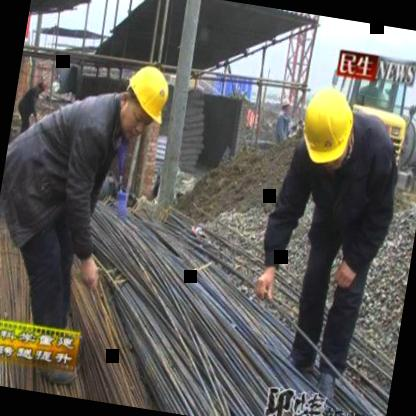helmet: (290, 76, 364, 178), (111, 52, 180, 146)
